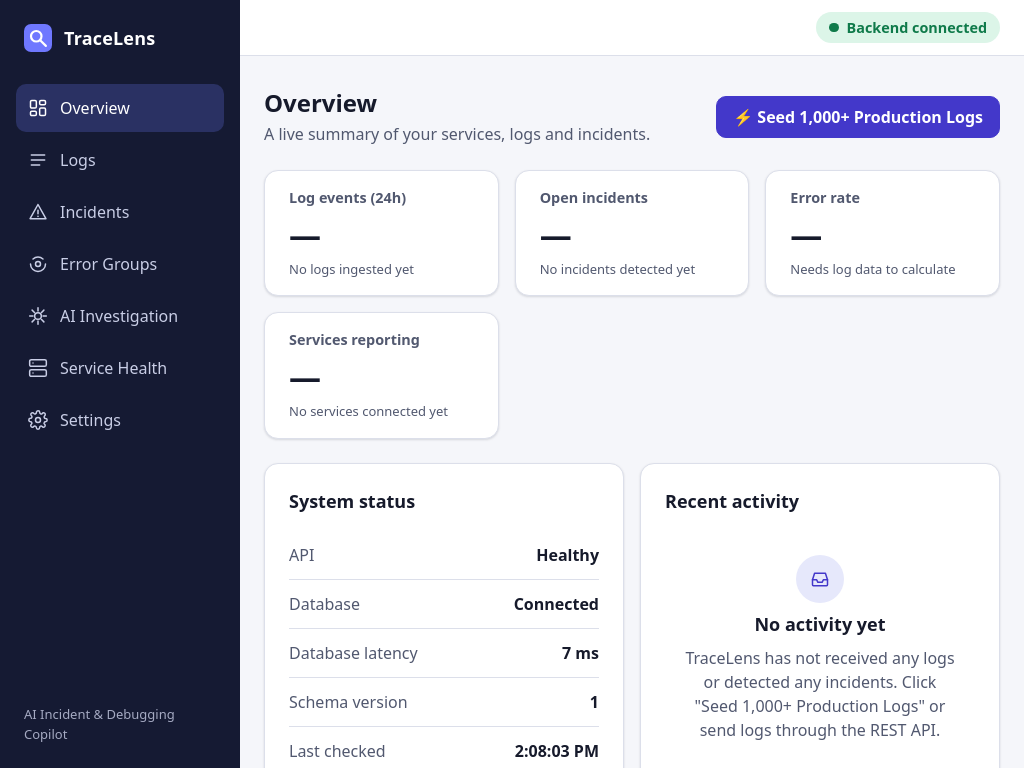
Test case: App shell › marks the current page and navigates between pages
Click the link "Logs" at (62, 160), box [28,149,96,171]
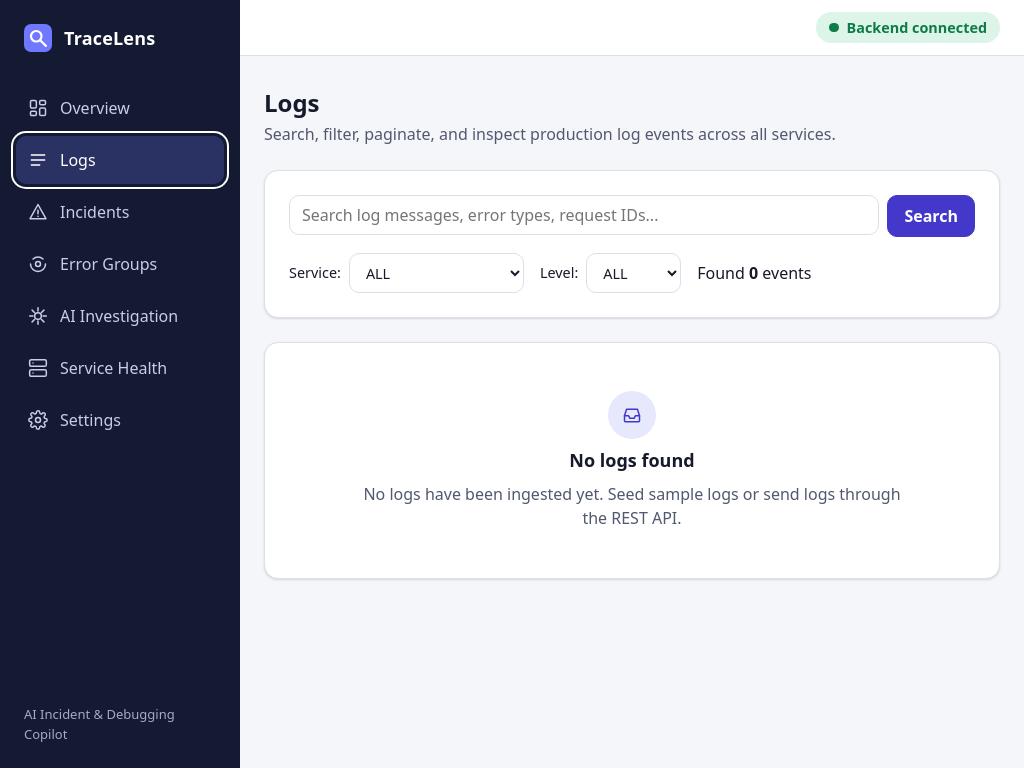
Now the heading "Logs" is shown, box [264,86,320,119]
Click the link "Incidents" at (79, 212), box [28,201,129,223]
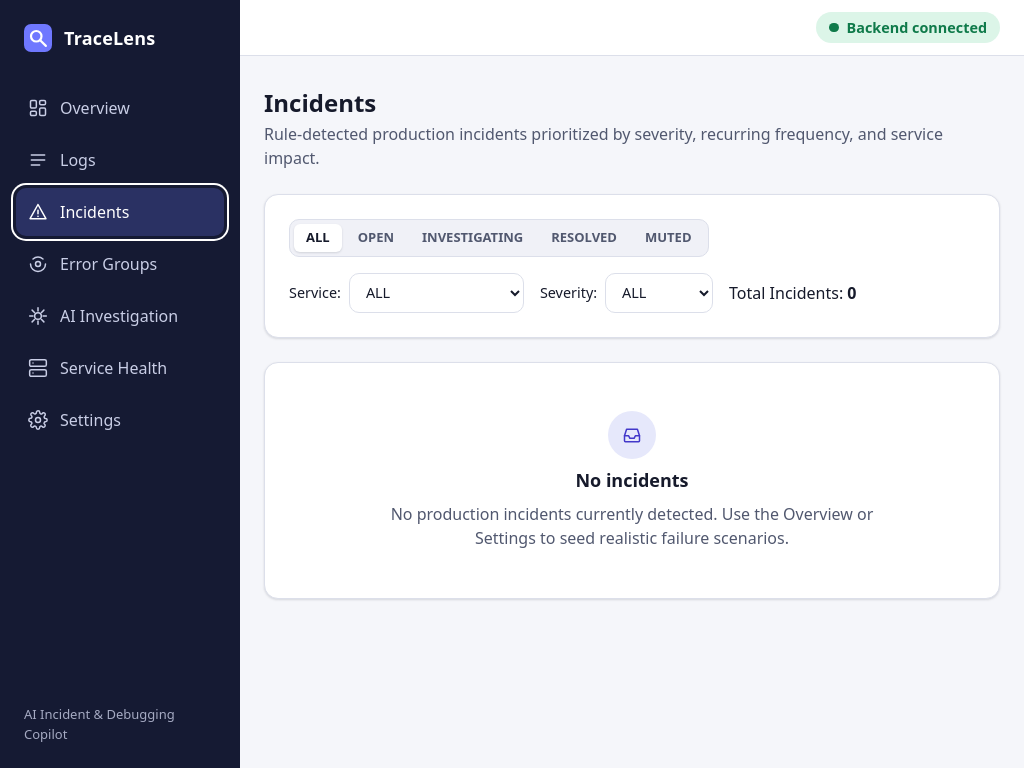
Now the heading "Incidents" is shown, box [264,86,376,119]
Now the heading "No incidents" is shown, box [575,466,688,494]
